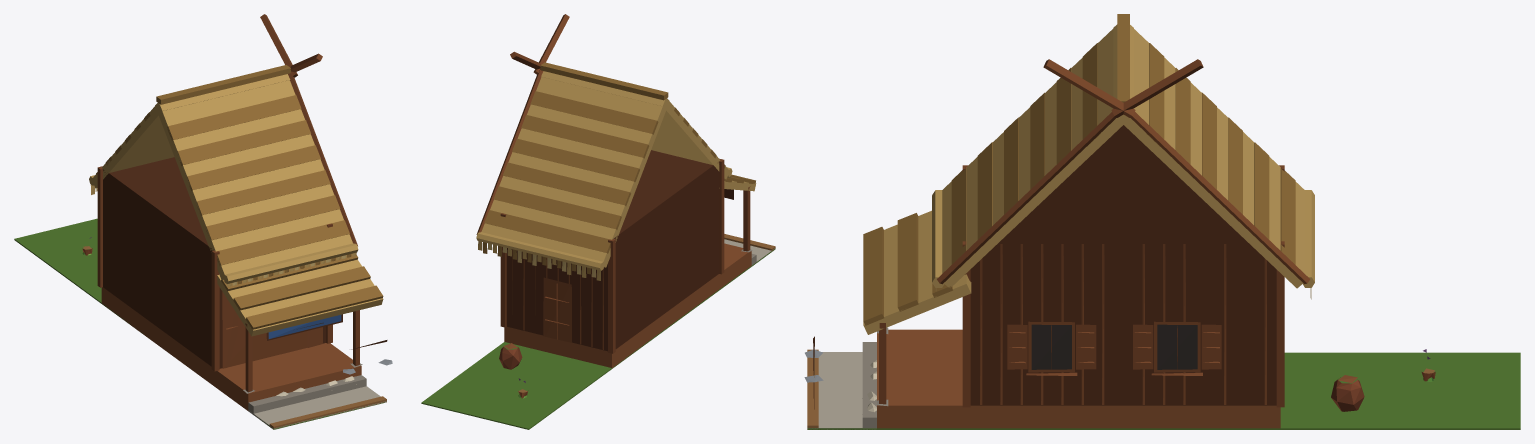
The model's file is bay2_right.glb.
3 views of the same model, side by side, from view 1: azimuth 30°, elevation 25°; view 2: azimuth 150°, elevation 25°; view 3: azimuth 270°, elevation 25° (orthographic). The views are drawn at different scales.
Visible parts, largest first — view 1: body; view 2: body; view 3: body, windows.
Boxes of the visible parts, box(x1,y1,x2,y2) form: body: box(14, 14, 392, 429); body: box(421, 14, 775, 429); body: box(804, 14, 1520, 429); windows: box(1031, 324, 1197, 369).
Bounding box in the file's own units: 4.91 × 9.62 × 15.96.
